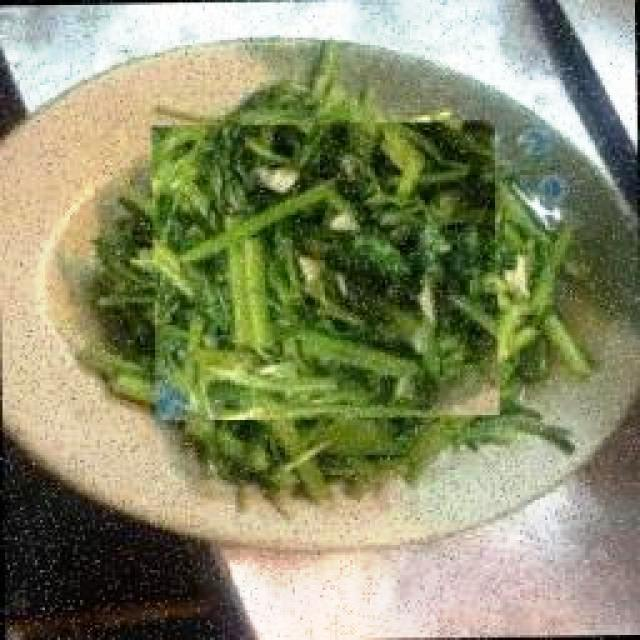mung_bean_sprouts: (513, 333, 546, 382)
water_spinach: (99, 65, 571, 492)
